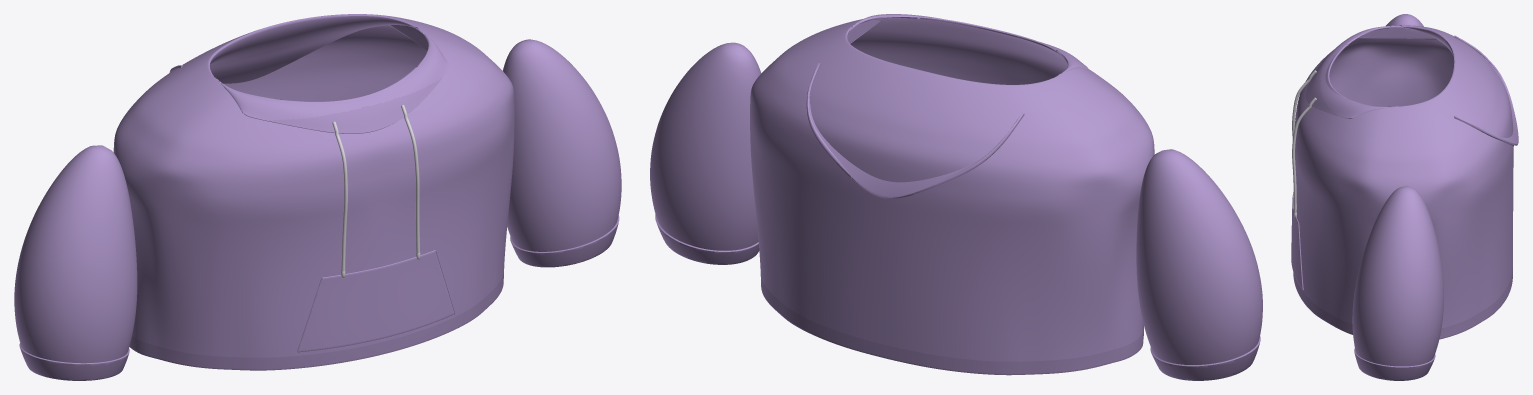
The model's file is Masculine-sweatshirt-top.glb.
The picture shows the model from 3 angles, left to right: view 1: azimuth 30°, elevation 25°; view 2: azimuth 150°, elevation 25°; view 3: azimuth 270°, elevation 25°; orthographic projection. The views are drawn at different scales.
Parts seen in each view (by area): view 1: Clothing / repaired202 sweatshirt, Sleeve / full fabric wrap201 -1, Sleeve / full fabric wrap201 1, Hoodie / seated pouch202, Sleeve / shaped cuff202 -1, Sleeve / shaped cuff202 1, Hoodie / seated cord202 -1 export, Hoodie / seated cord202 1 export; view 2: Clothing / repaired202 sweatshirt, Sleeve / full fabric wrap201 -1, Sleeve / full fabric wrap201 1, Sleeve / shaped cuff202 -1, Sleeve / shaped cuff202 1; view 3: Clothing / repaired202 sweatshirt, Sleeve / full fabric wrap201 1, Sleeve / shaped cuff202 1, Hoodie / seated pouch202, Hoodie / seated cord202 1 export, Sleeve / full fabric wrap201 -1, Hoodie / seated cord202 -1 export.
Boxes of the visible parts, box(x1,y1,x2,y2) form: Clothing / repaired202 sweatshirt: box(113, 14, 514, 370); Sleeve / full fabric wrap201 -1: box(14, 145, 137, 363); Sleeve / full fabric wrap201 1: box(503, 39, 621, 251); Hoodie / seated pouch202: box(298, 250, 454, 352); Sleeve / shaped cuff202 -1: box(19, 343, 129, 380); Sleeve / shaped cuff202 1: box(510, 215, 619, 267); Hoodie / seated cord202 -1 export: box(332, 121, 347, 271); Hoodie / seated cord202 1 export: box(401, 105, 420, 253); Clothing / repaired202 sweatshirt: box(750, 14, 1154, 375); Sleeve / full fabric wrap201 -1: box(1136, 149, 1262, 364); Sleeve / full fabric wrap201 1: box(650, 42, 761, 250); Sleeve / shaped cuff202 -1: box(1150, 336, 1260, 380); Sleeve / shaped cuff202 1: box(655, 214, 759, 264); Clothing / repaired202 sweatshirt: box(1293, 25, 1518, 339); Sleeve / full fabric wrap201 1: box(1352, 185, 1443, 366); Sleeve / shaped cuff202 1: box(1354, 348, 1435, 380); Hoodie / seated pouch202: box(1291, 192, 1303, 289); Hoodie / seated cord202 1 export: box(1292, 97, 1316, 213); Sleeve / full fabric wrap201 -1: box(1386, 14, 1423, 26); Hoodie / seated cord202 -1 export: box(1292, 70, 1316, 140).
Bounding box in the file's own units: 1.09 × 0.4592 × 0.4443.
